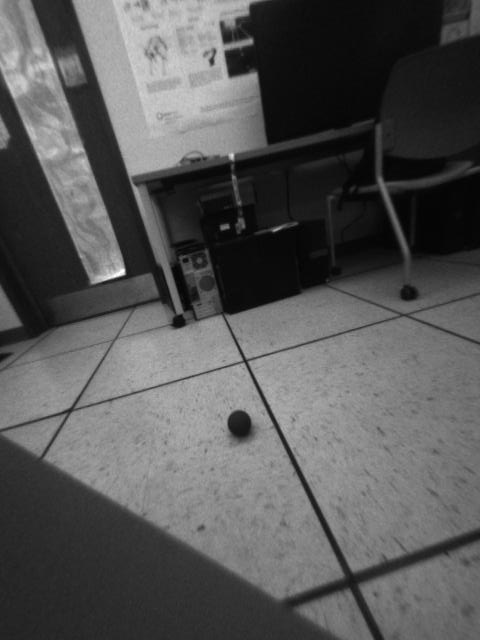dogtoy: (219, 404, 259, 443)
